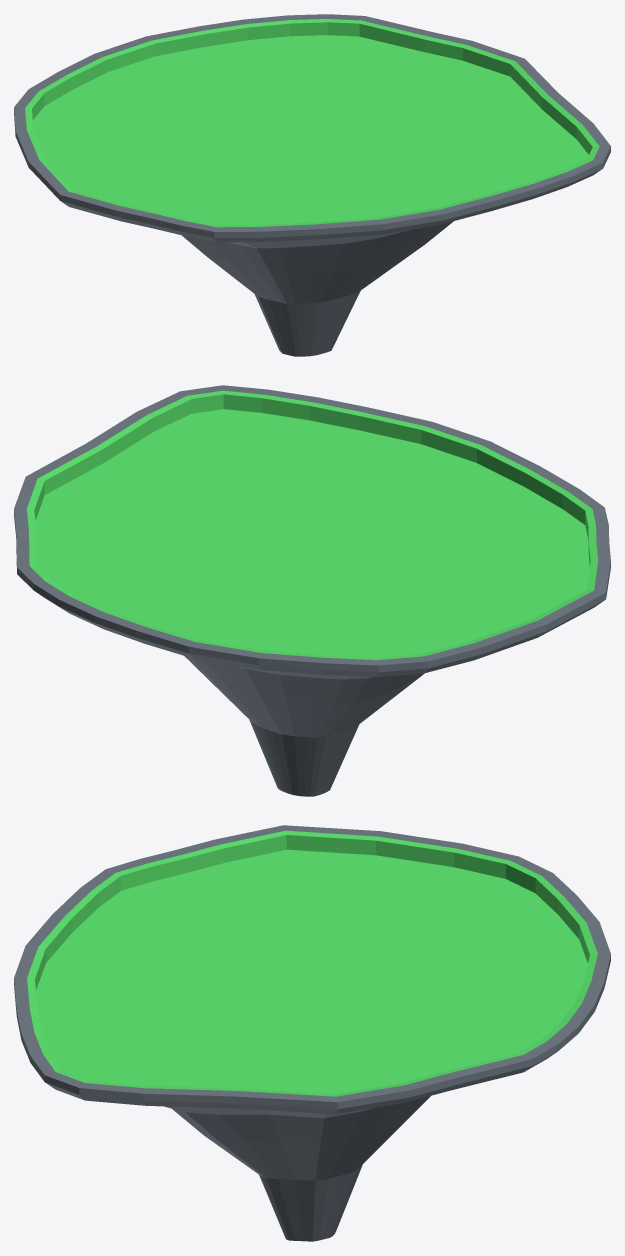
Rendered from large_island_01.fbx.
3 views of the same model, one above another, from view 1: azimuth 30°, elevation 25°; view 2: azimuth 150°, elevation 25°; view 3: azimuth 270°, elevation 25° (orthographic). The views are drawn at different scales.
Parts seen in each view (by area): view 1: Plane.003; view 2: Plane.003; view 3: Plane.003.
Boxes of the visible parts, left/top/right/bottom form: Plane.003: left=14, top=14, right=610, bottom=356; Plane.003: left=14, top=385, right=610, bottom=796; Plane.003: left=14, top=825, right=610, bottom=1241.
Size of the model in its own units: 22817 by 9975 by 20786.
